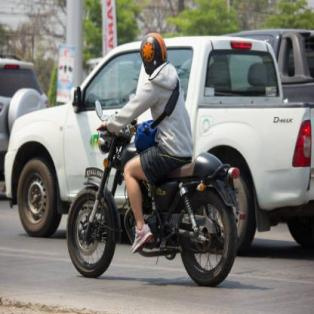Motocicleta: (64, 100, 240, 282)
